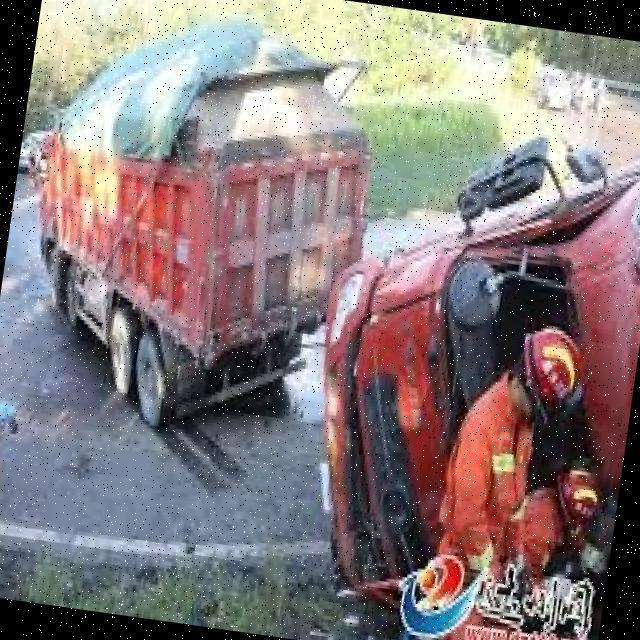accident: (278, 133, 640, 640)
